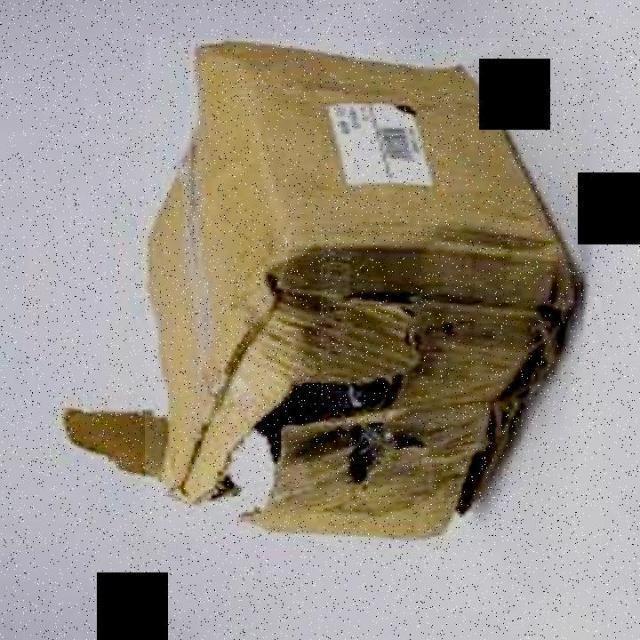box: (144, 38, 582, 539)
